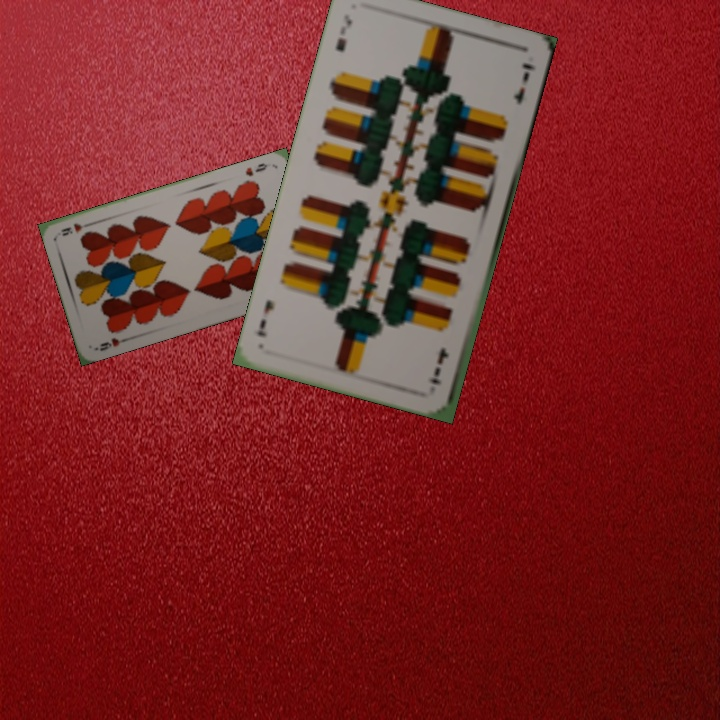E7: (331, 10, 355, 55), (427, 344, 452, 387)
H9: (91, 334, 131, 353), (241, 159, 270, 179)
